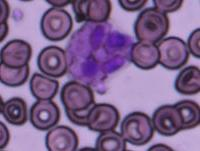E: (64, 20, 134, 86)
